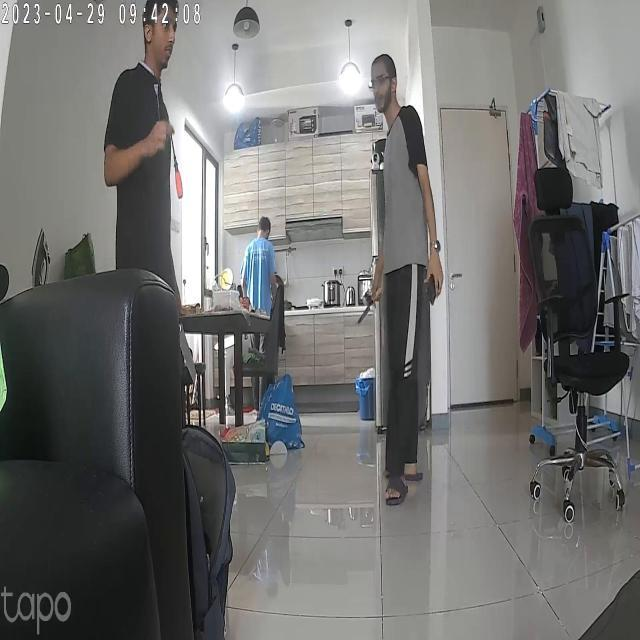Knife: (158, 131, 191, 203), (355, 294, 373, 331)
